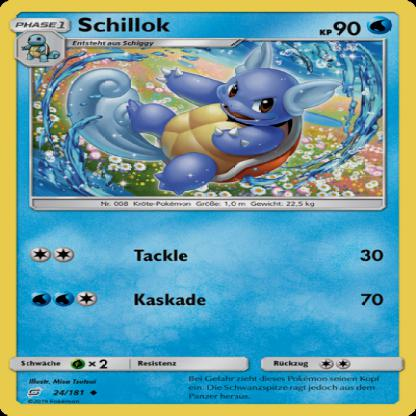Wartortle: (72, 50, 328, 194)
